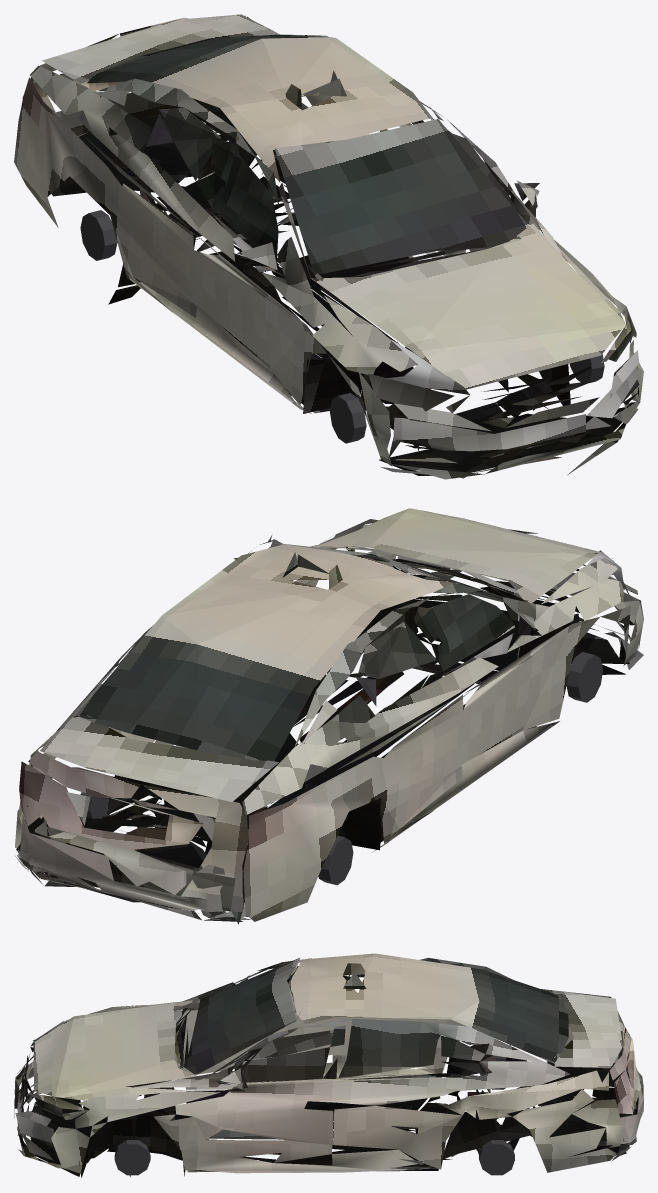
File: taxi_f.glb
The picture shows the model from 3 angles, top to bottom: view 1: azimuth 30°, elevation 25°; view 2: azimuth 150°, elevation 25°; view 3: azimuth 270°, elevation 25°; orthographic projection. The views are drawn at different scales.
Visible parts, largest first — view 1: karosserie, rad_hl; view 2: karosserie, rad_hl; view 3: karosserie, rad_hl.
Part boxes in pixels (<box>): karosserie: <box>14,14,643,479</box>; rad_hl: <box>80,210,604,443</box>; karosserie: <box>15,508,643,924</box>; rad_hl: <box>80,652,602,885</box>; karosserie: <box>14,953,643,1177</box>; rad_hl: <box>114,1055,514,1175</box>.
Bounding box in the file's own units: 1.99 × 1.61 × 4.81.
2 materials, 1 textured.
